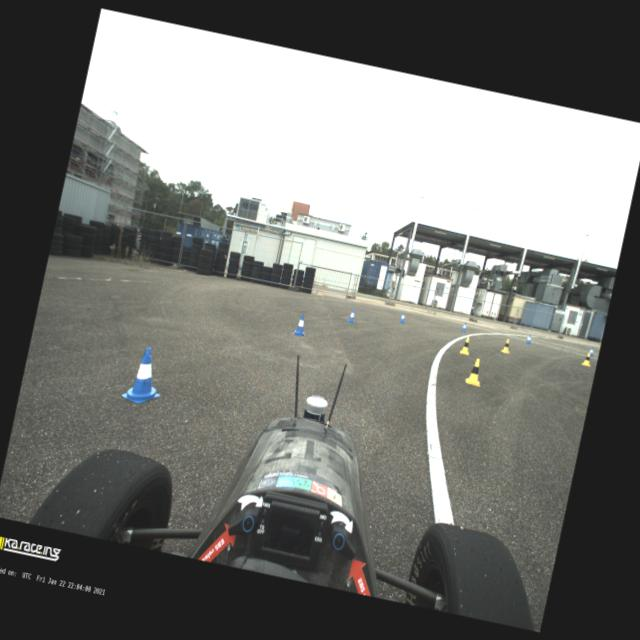blue_cone: (120, 344, 169, 407), (291, 312, 309, 336), (346, 308, 356, 323), (398, 312, 406, 324), (460, 321, 468, 332), (524, 333, 532, 344), (588, 346, 595, 356)
yellow_cone: (464, 356, 484, 386), (459, 336, 472, 355), (500, 337, 512, 353), (581, 351, 593, 367)
